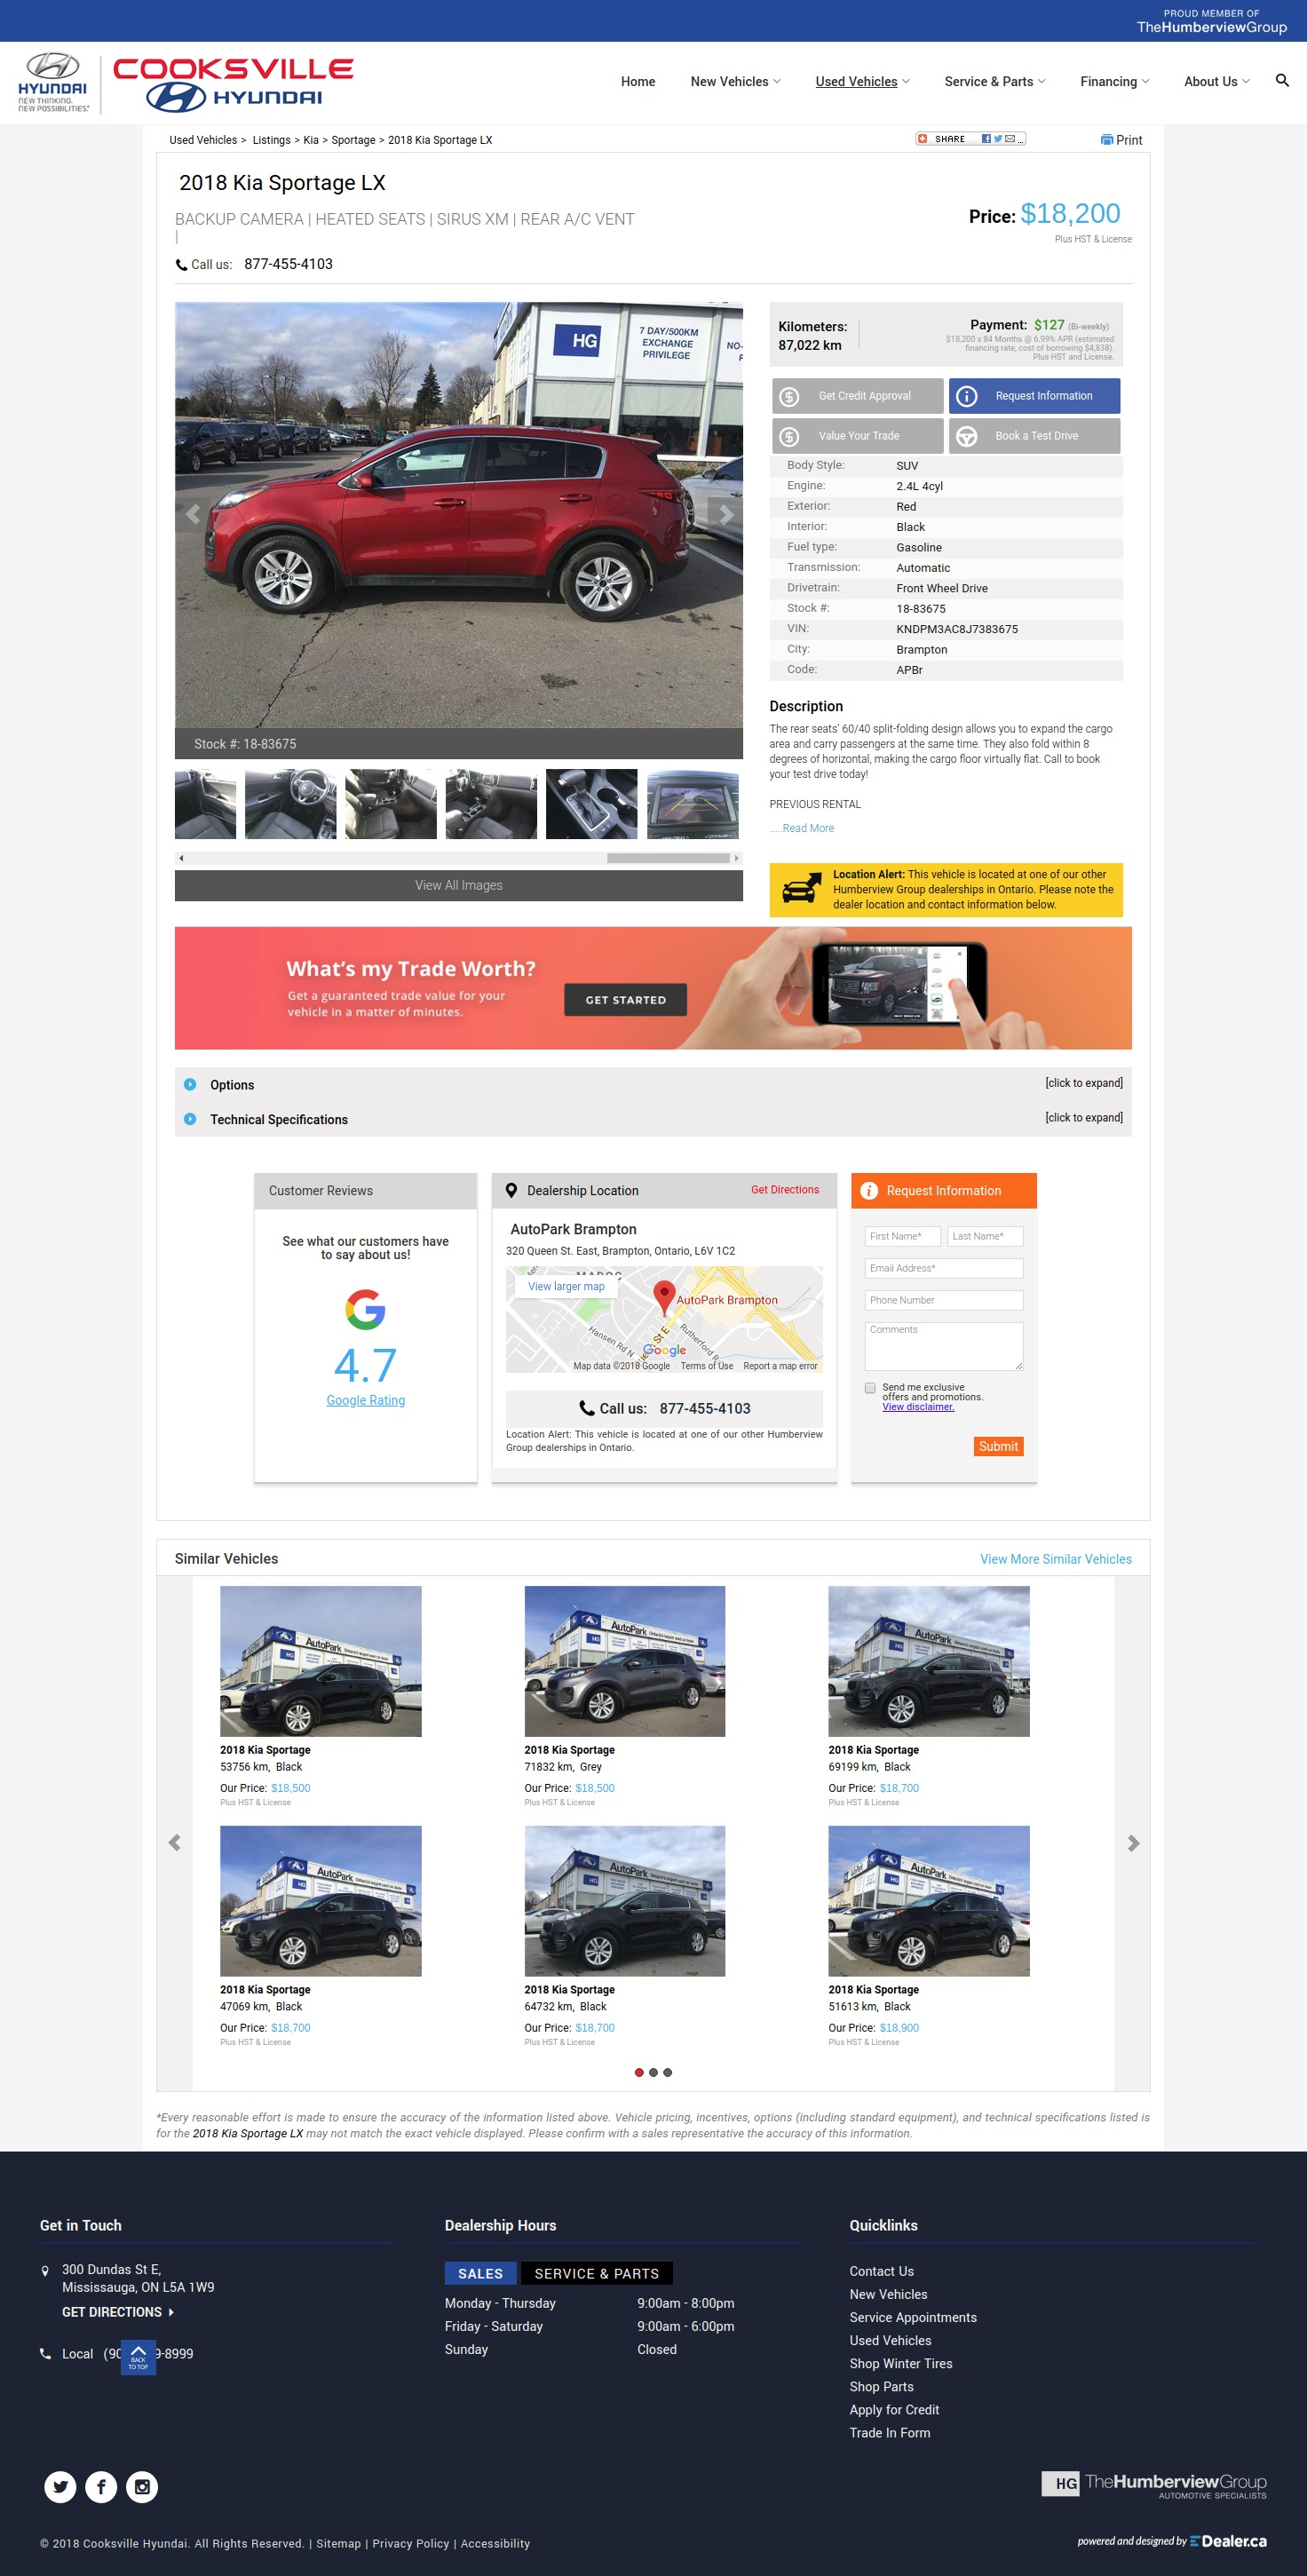car: (734, 855, 740, 863)
